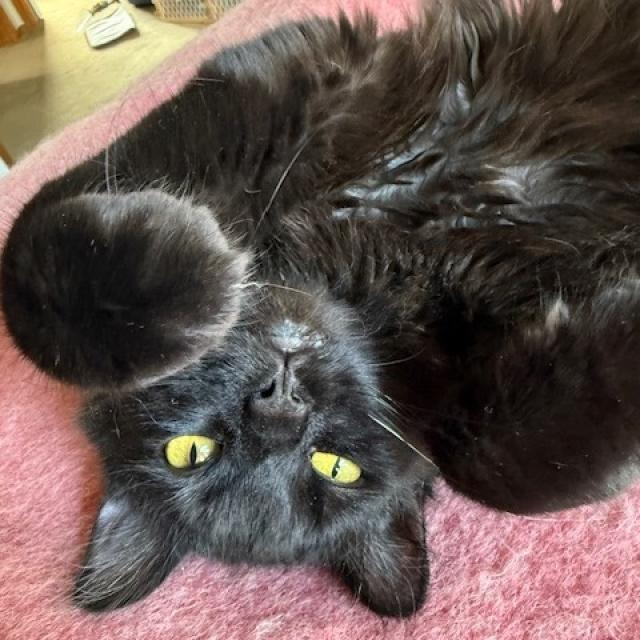domestic_long_hair_cat: (44, 186, 461, 624)
